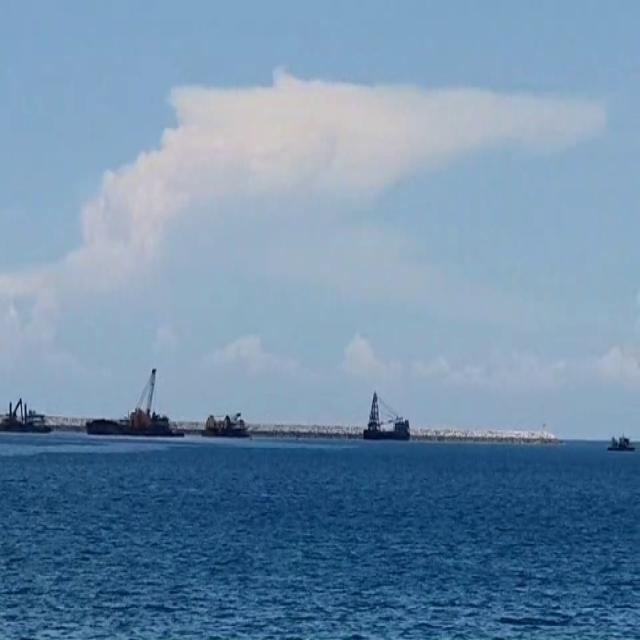civilianship: (79, 352, 198, 454), (347, 390, 425, 482), (1, 373, 62, 442), (210, 390, 275, 453), (606, 424, 636, 466)
